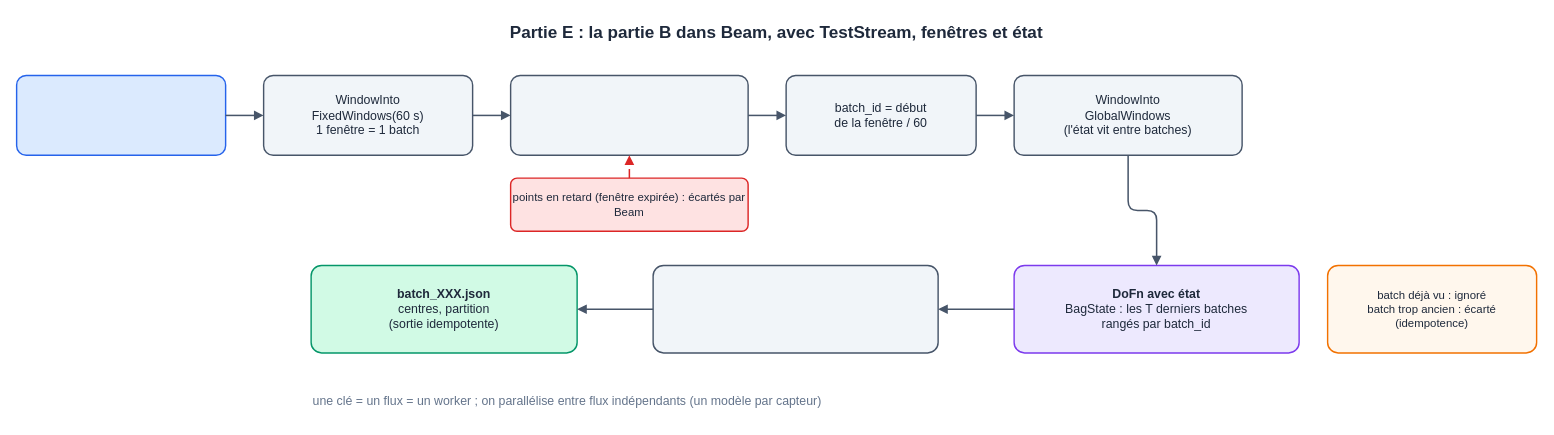
The diagram is 1554 pixels wide and 435 high, and some of its shapes have lost their labels. Here are the shapes that lost their labels. From the top down, the box of each, then its label:
(15, 74, 226, 156): TestStream points horodatés (batch t = minute t)
(509, 74, 748, 156): GroupByKey batch complet quand le watermark passe la fenêtre
(652, 264, 938, 353): streaming_update la fonction de la partie B (même code, même résultat)
